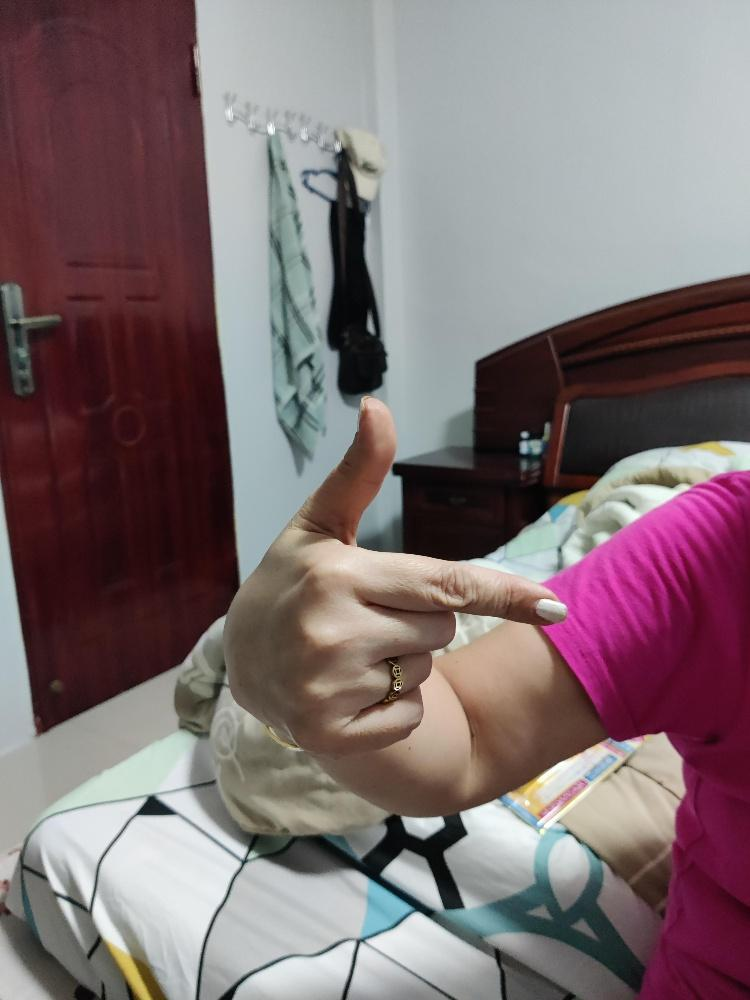g: (220, 393, 570, 756)
